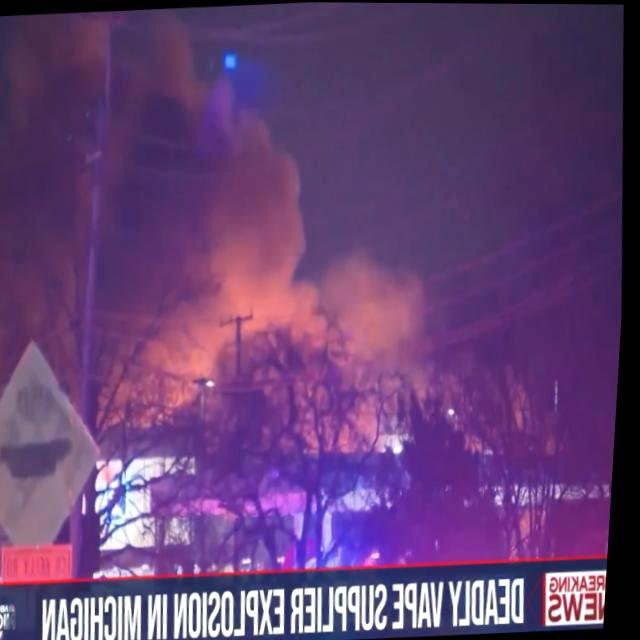fire: (103, 157, 417, 410)
